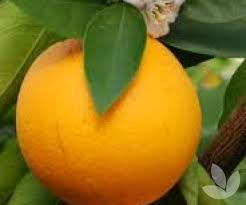orange: (11, 33, 203, 205)
